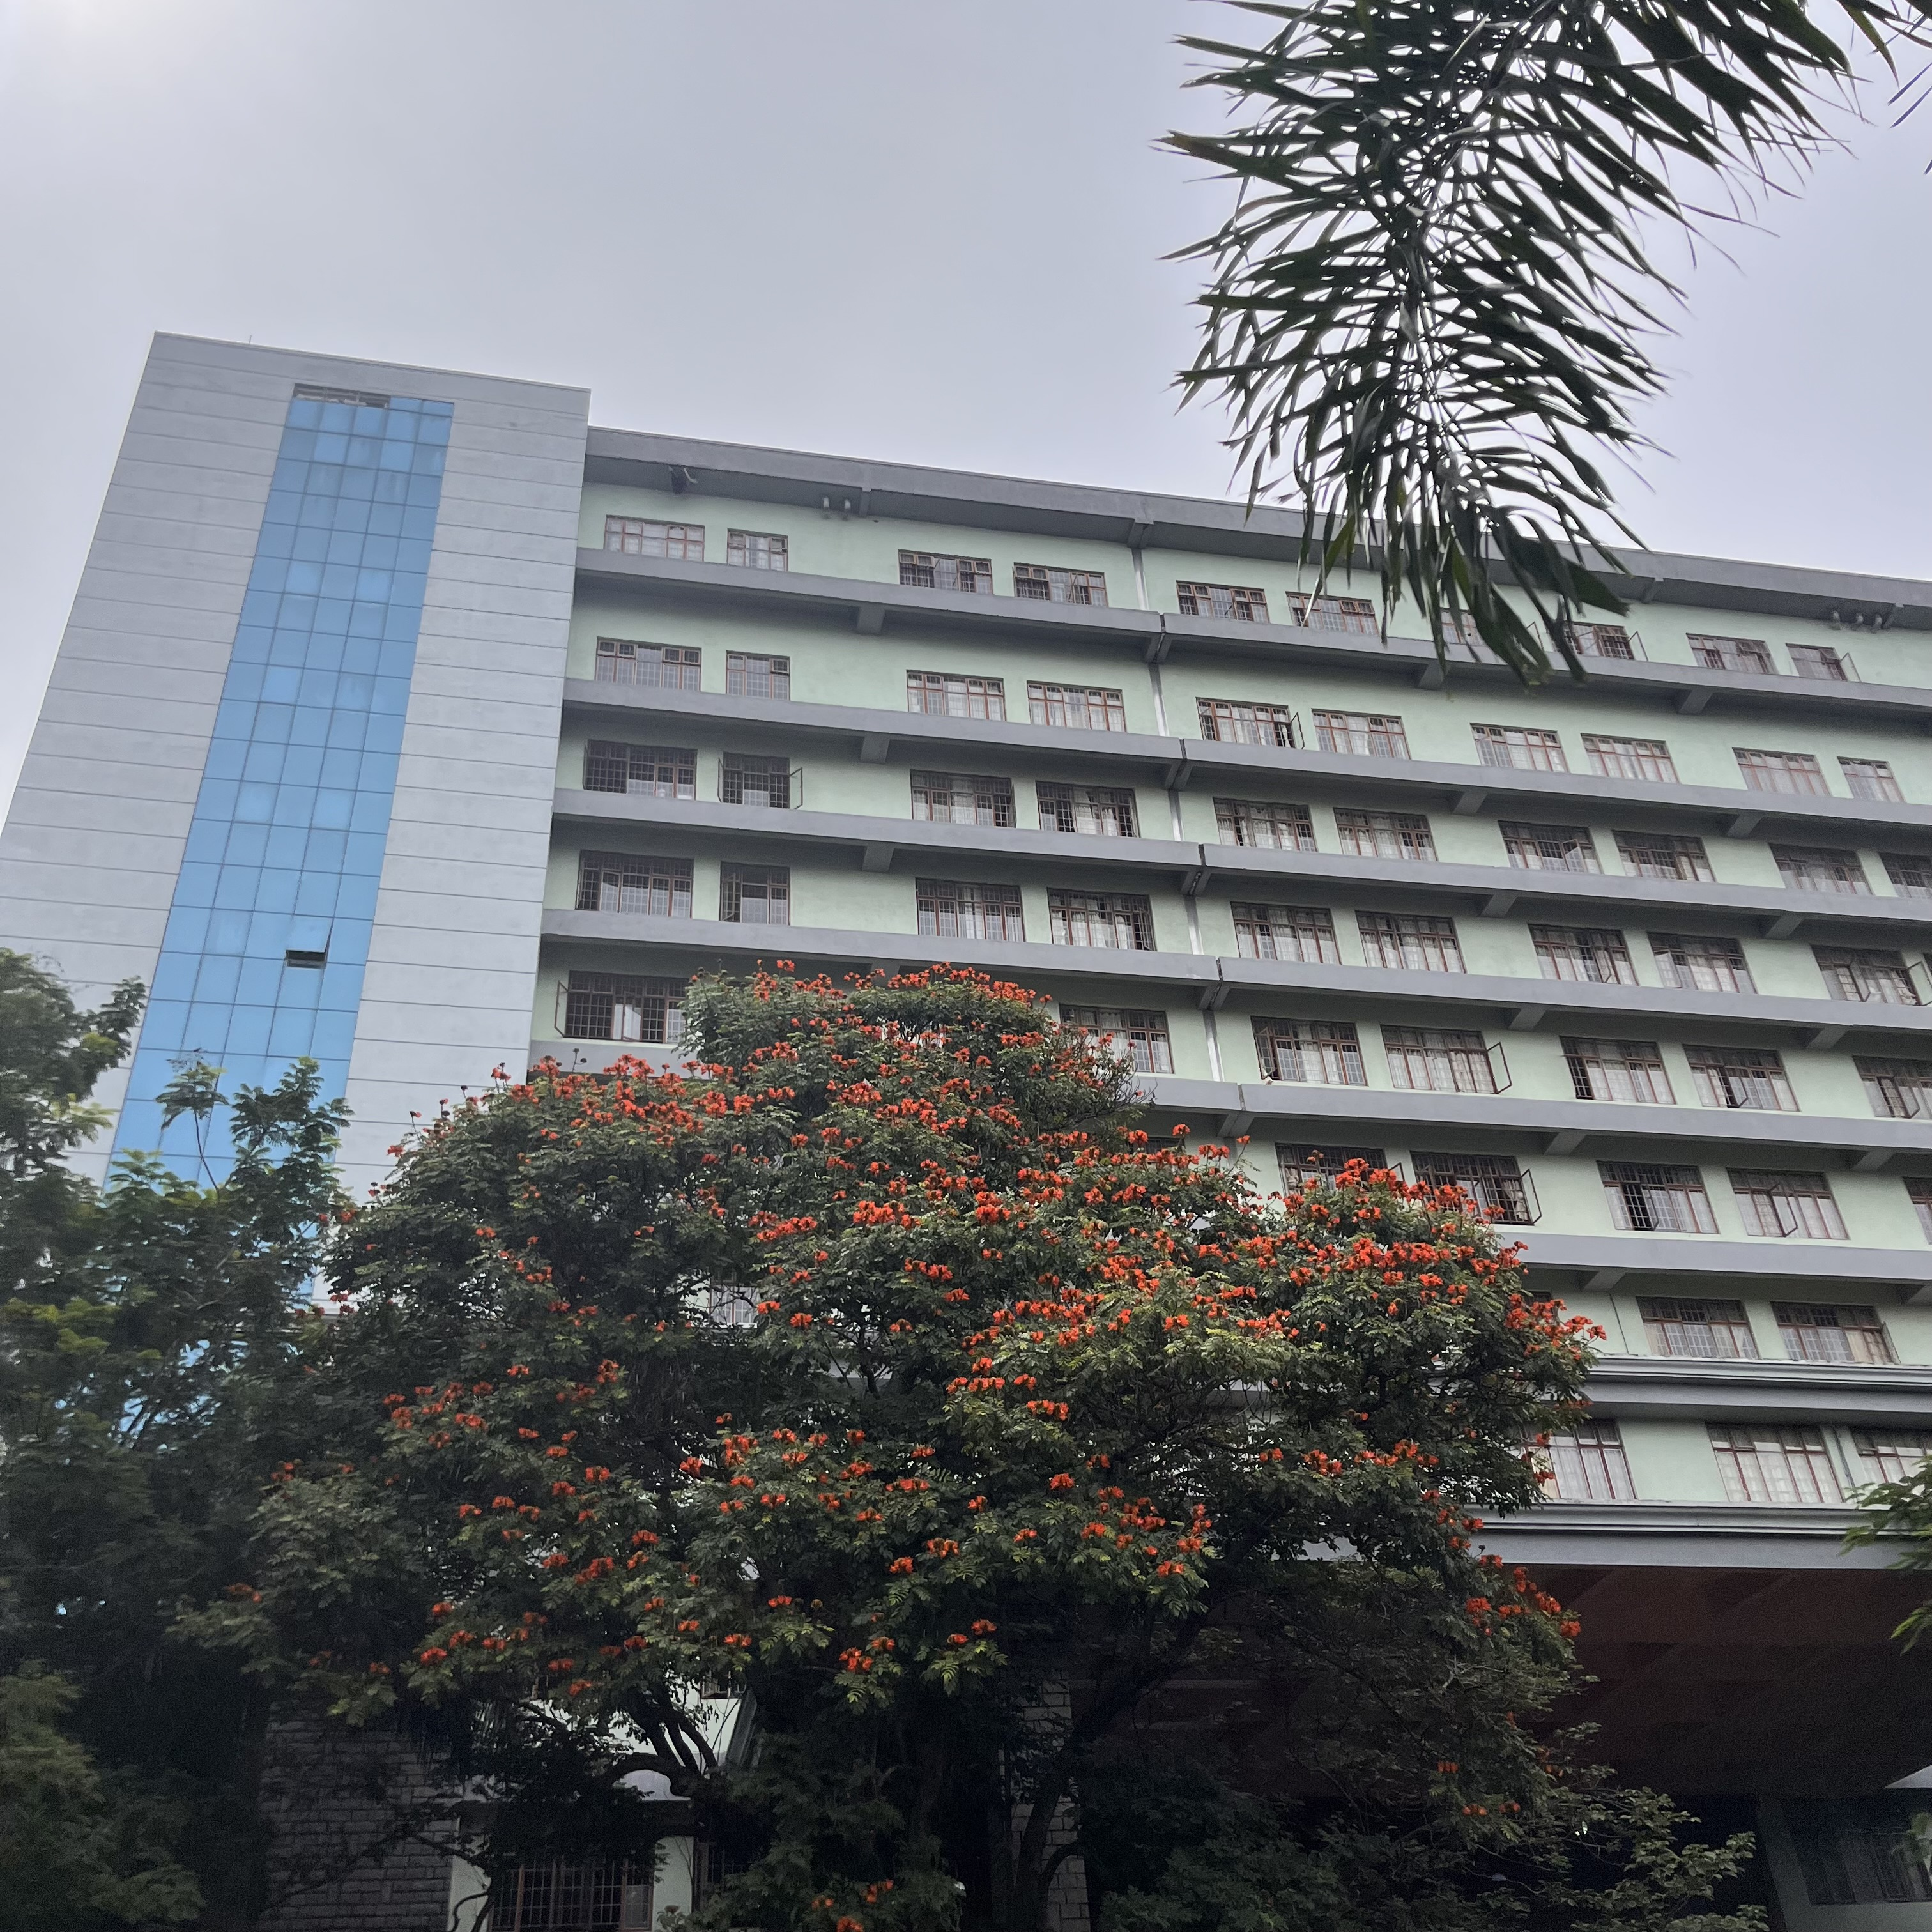Central Block: (113, 248, 1932, 1904)
